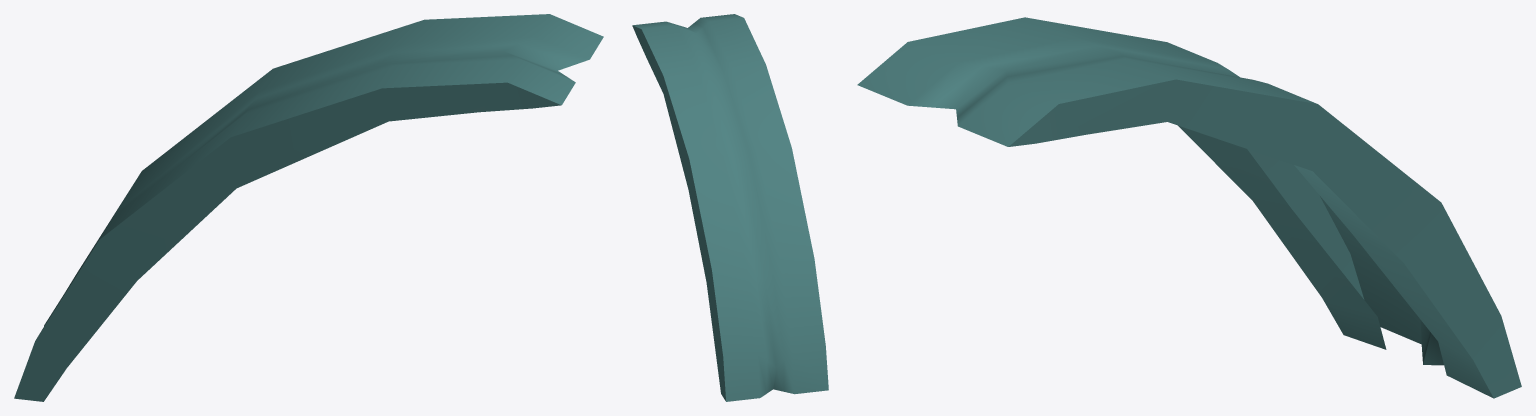
The model's file is Arch_OutsideCorner_Top.fbx.
The picture shows the model from 3 angles, left to right: view 1: azimuth 30°, elevation 25°; view 2: azimuth 150°, elevation 25°; view 3: azimuth 270°, elevation 25°; orthographic projection. The views are drawn at different scales.
Visible parts, largest first — view 1: Arch_OutsideCorner_Top; view 2: Arch_OutsideCorner_Top; view 3: Arch_OutsideCorner_Top.
Part boxes in pixels (bbox=[...]): Arch_OutsideCorner_Top: bbox=[14, 14, 603, 401]; Arch_OutsideCorner_Top: bbox=[632, 14, 828, 401]; Arch_OutsideCorner_Top: bbox=[857, 17, 1521, 398].
Bounding box in the file's own units: 265 × 211 × 265.
